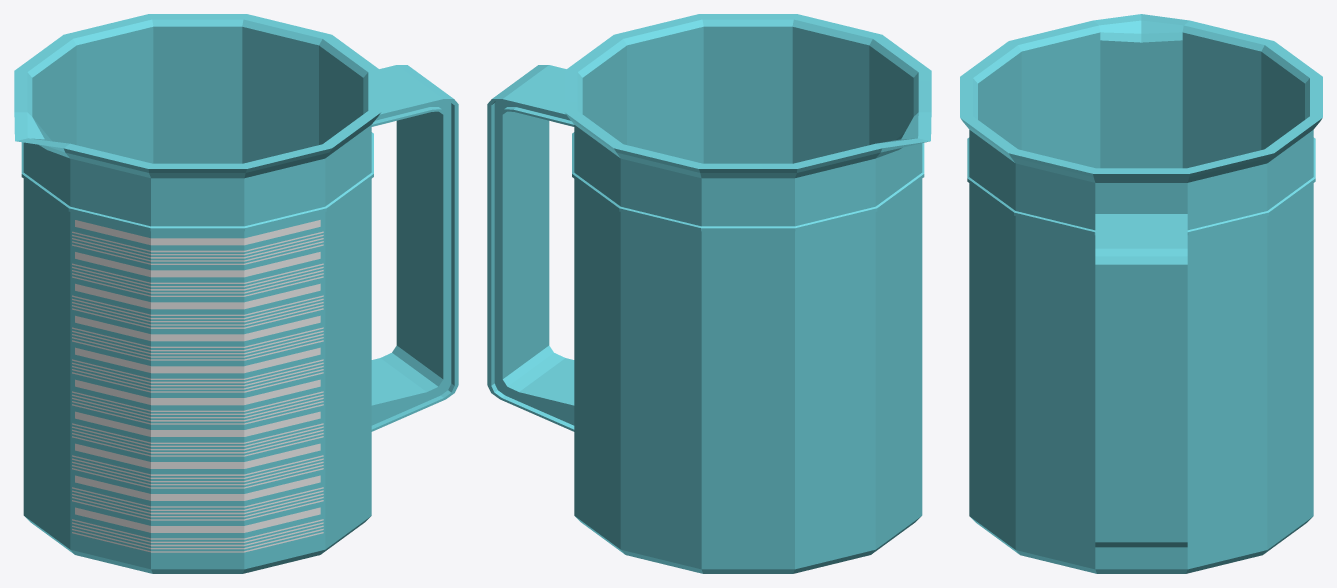
File: SM_Beaker_04_B.glb
3 views of the same model, side by side, from view 1: azimuth 30°, elevation 25°; view 2: azimuth 150°, elevation 25°; view 3: azimuth 270°, elevation 25° (orthographic).
Parts seen in each view (by area): view 1: SM_Beaker_04_B; view 2: SM_Beaker_04_B; view 3: SM_Beaker_04_B.
Boxes of the visible parts, x1=… form: SM_Beaker_04_B: x1=14, y1=14, x2=458, y2=573; SM_Beaker_04_B: x1=487, y1=14, x2=931, y2=573; SM_Beaker_04_B: x1=960, y1=14, x2=1322, y2=573.
Bounding box in the file's own units: 0.3069 × 0.2893 × 0.232.
